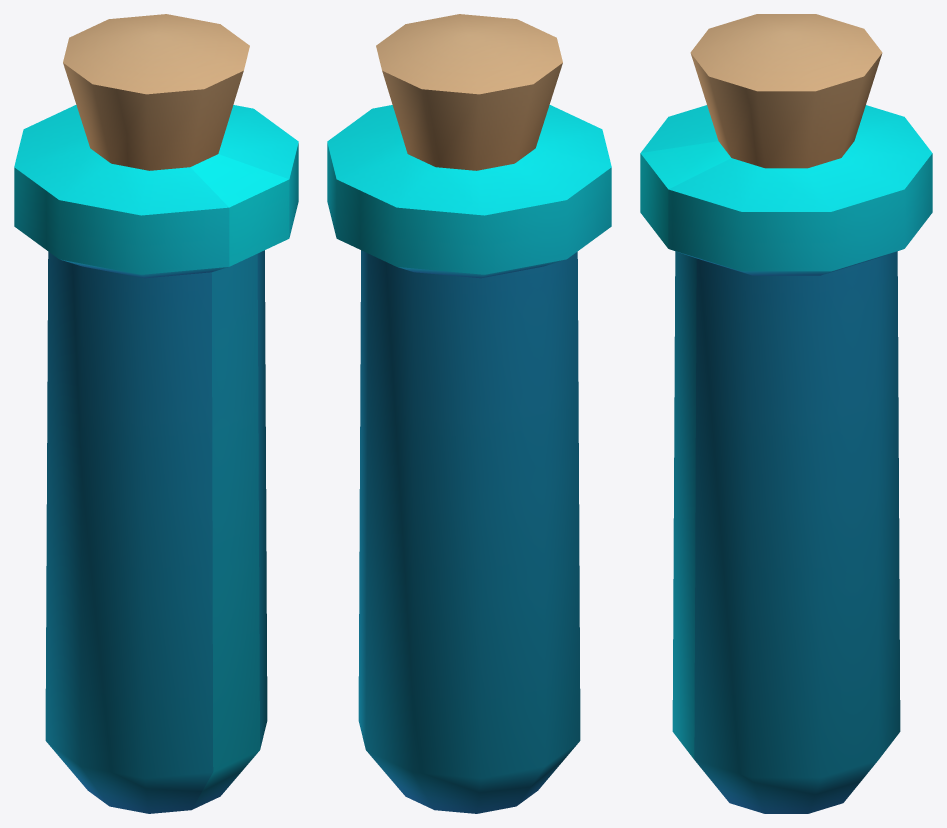
The model's file is potion_small_blue.glb.
3 renders of one model, left to right at view 1: azimuth 30°, elevation 25°; view 2: azimuth 150°, elevation 25°; view 3: azimuth 270°, elevation 25°, orthographic.
Parts seen in each view (by area): view 1: potion_small_blue; view 2: potion_small_blue; view 3: potion_small_blue.
Boxes of the visible parts, bbox=[...] form: potion_small_blue: bbox=[14, 14, 298, 813]; potion_small_blue: bbox=[327, 14, 611, 813]; potion_small_blue: bbox=[640, 14, 932, 813].
Bounding box in the file's own units: 0.1512 × 0.464 × 0.1589.
1 material, 1 textured.
